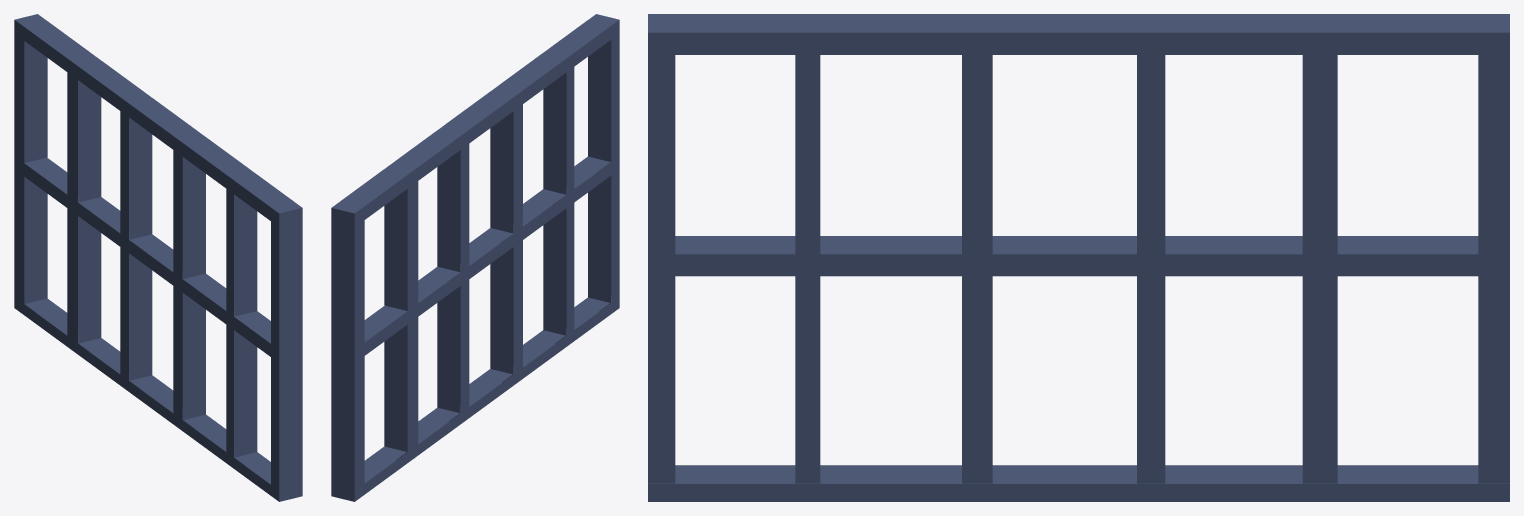
File: Window.fbx
3 views of the same model, side by side, from view 1: azimuth 30°, elevation 25°; view 2: azimuth 150°, elevation 25°; view 3: azimuth 270°, elevation 25° (orthographic). The views are drawn at different scales.
Parts seen in each view (by area): view 1: Cube; view 2: Cube; view 3: Cube.
Boxes of the visible parts, bbox=[...] form: Cube: bbox=[14, 14, 302, 501]; Cube: bbox=[331, 14, 619, 501]; Cube: bbox=[648, 14, 1509, 501].
Bounding box in the file's own units: 24.13 × 284 × 473.
